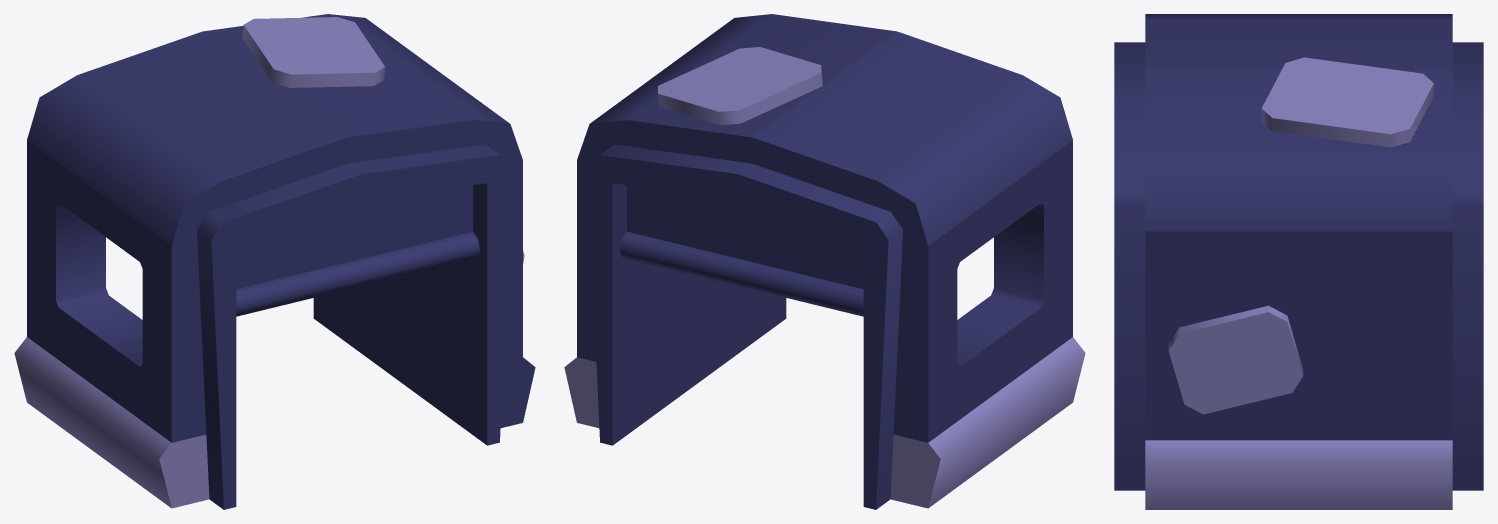
File: Machine.glb
3 views of the same model, side by side, from view 1: azimuth 30°, elevation 25°; view 2: azimuth 150°, elevation 25°; view 3: azimuth 270°, elevation 25° (orthographic). The views are drawn at different scales.
Parts seen in each view (by area): view 1: machine, machine.001; view 2: machine, machine.001; view 3: machine, machine.001.
Part boxes in pixels (left/top/right/bottom): machine: left=27, top=14, right=535, bottom=509; machine.001: left=14, top=17, right=524, bottom=508; machine: left=577, top=14, right=1072, bottom=509; machine.001: left=564, top=47, right=1085, bottom=508; machine: left=1114, top=14, right=1483, bottom=490; machine.001: left=1145, top=57, right=1452, bottom=509.
Bounding box in the file's own units: 1.5 × 1.3 × 1.2.
